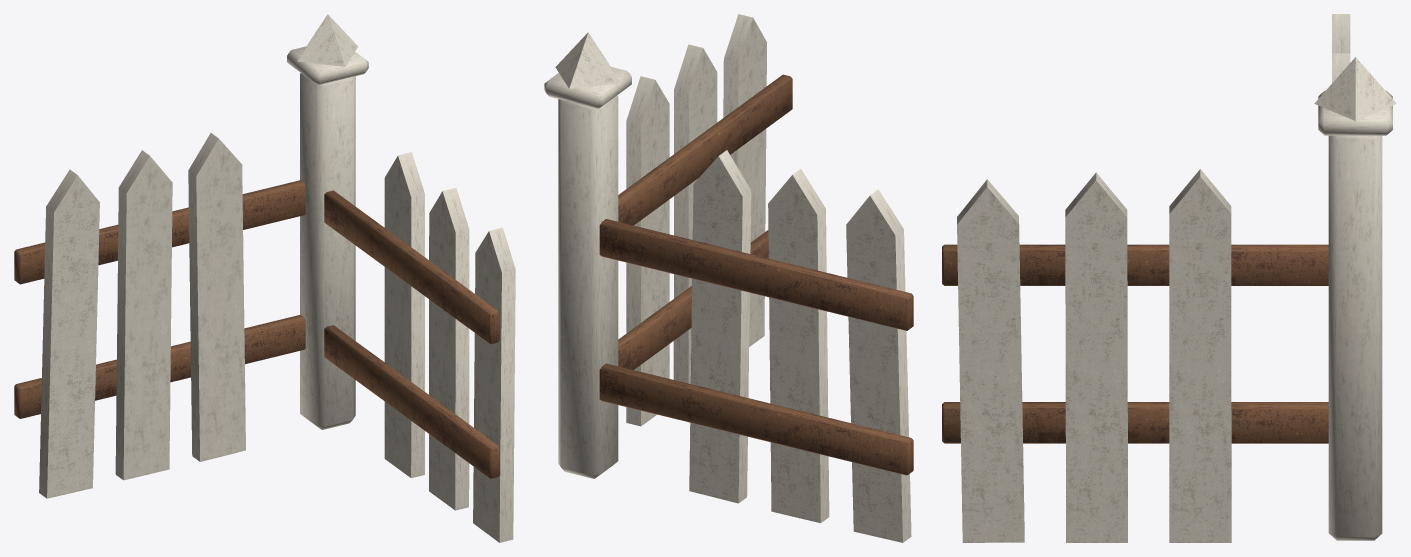
Rendered from picket_fence_corner.glb.
3 renders of one model, left to right at view 1: azimuth 30°, elevation 25°; view 2: azimuth 150°, elevation 25°; view 3: azimuth 270°, elevation 25°, orthographic. The views are drawn at different scales.
Visible parts, largest first — view 1: Fence; view 2: Fence; view 3: Fence.
Part boxes in pixels (x1,y1,x2,y2): Fence: [14, 14, 515, 542]; Fence: [544, 14, 913, 542]; Fence: [942, 14, 1396, 542].
Size of the model in its own units: 1.1 by 1.27 by 1.1.
1 material, 1 textured.
